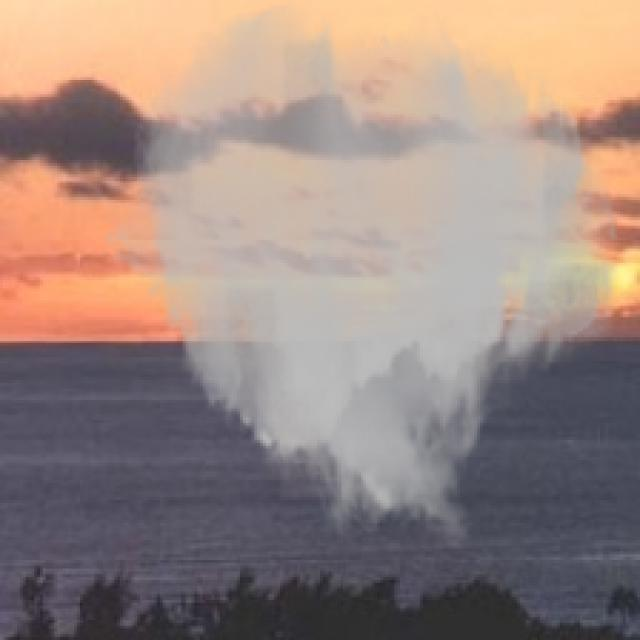smoke: (103, 0, 624, 552)
